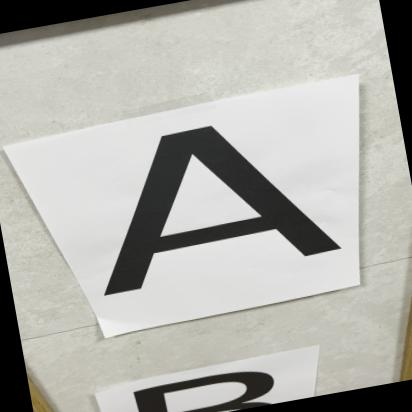seat: (58, 93, 354, 298)
